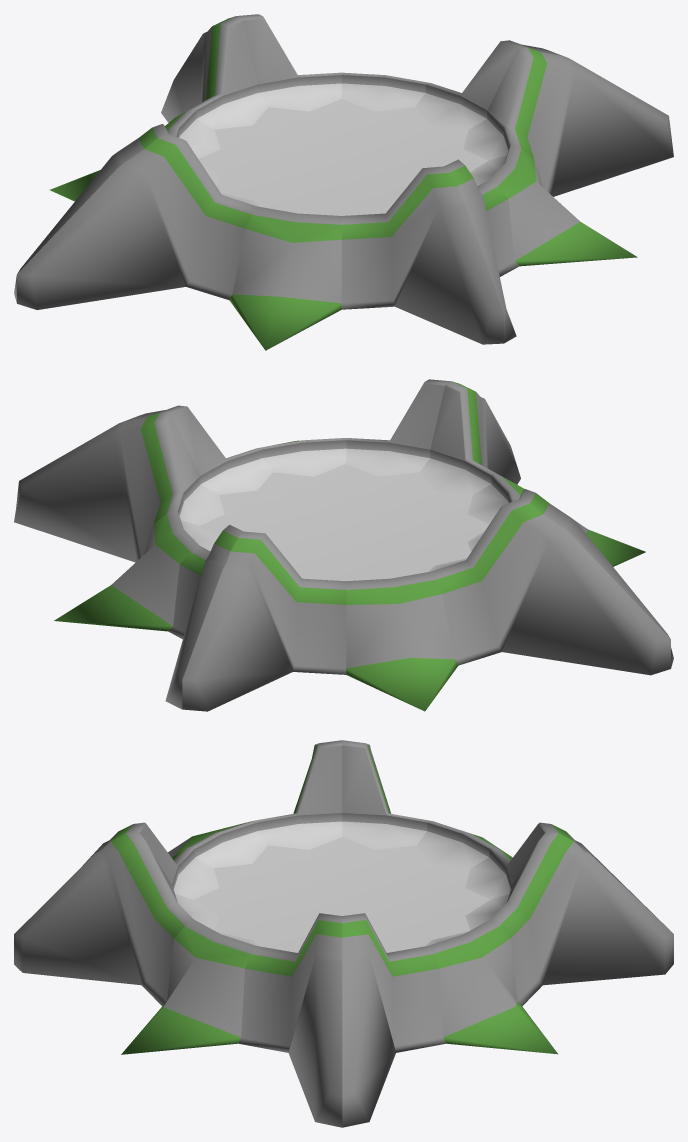
Rendered from CheckPoint 1.fbx.
The picture shows the model from 3 angles, top to bottom: view 1: azimuth 30°, elevation 25°; view 2: azimuth 150°, elevation 25°; view 3: azimuth 270°, elevation 25°; orthographic projection.
Visible parts, largest first — view 1: CheckPoint.001; view 2: CheckPoint.001; view 3: CheckPoint.001.
Boxes of the visible parts, x1,y1,x2,y2 form: CheckPoint.001: (14, 14, 673, 350); CheckPoint.001: (14, 379, 673, 711); CheckPoint.001: (14, 740, 673, 1127).
Bounding box in the file's own units: 483 × 94.27 × 416.
